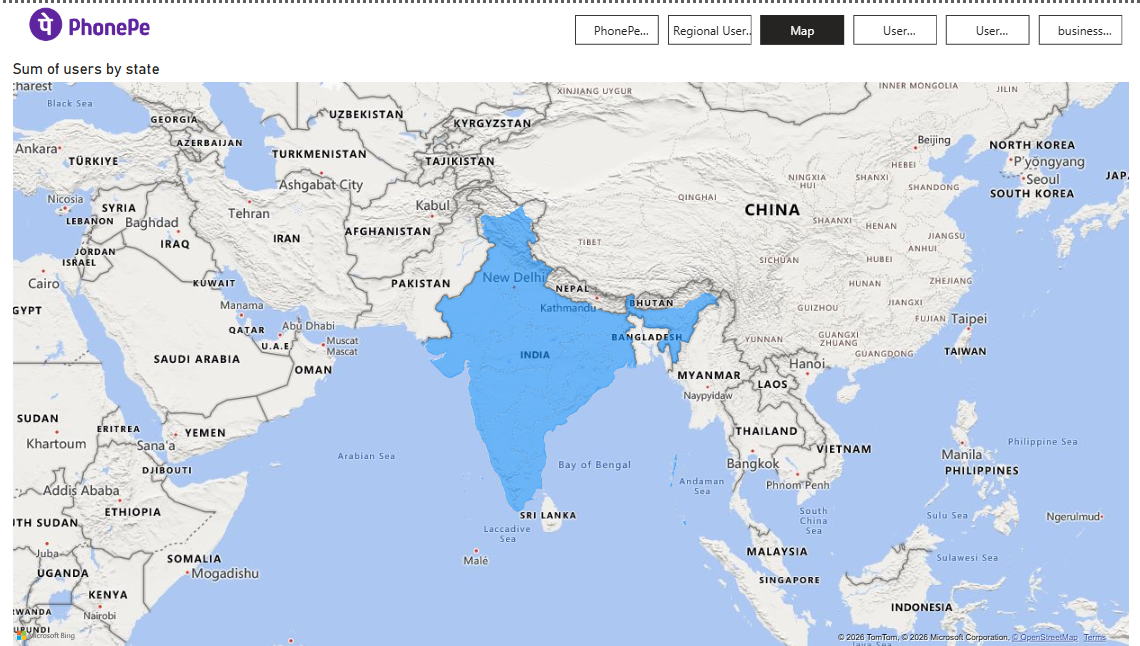

The page's visual inventory and layout, read from the dashboard file:
{"tool":"powerbi","page":{"name":"Map","canvas":[1280,720],"ordinal":2},"visuals":[{"type":"filledMap","fields":{"Category":["vw_final_dashboard.state"]},"box":[10,62.5,1250,658.8],"z":0},{"type":"pageNavigator","box":[640,13.8,611.2,33.8],"z":1000},{"type":"image","box":[0,0,200,48.3],"z":1001}]}

Visuals, with their boxes on the page's 1280x720 design canvas (x1, y1, x2, y2). These are canvas units, not pixel positions in the 1140x646 screenshot, which may show the page scaled, cropped or inside an application window:
filledMap - vw_final_dashboard.state: detection(10, 62, 1260, 721)
pageNavigator: detection(640, 14, 1251, 48)
image: detection(0, 0, 200, 48)
